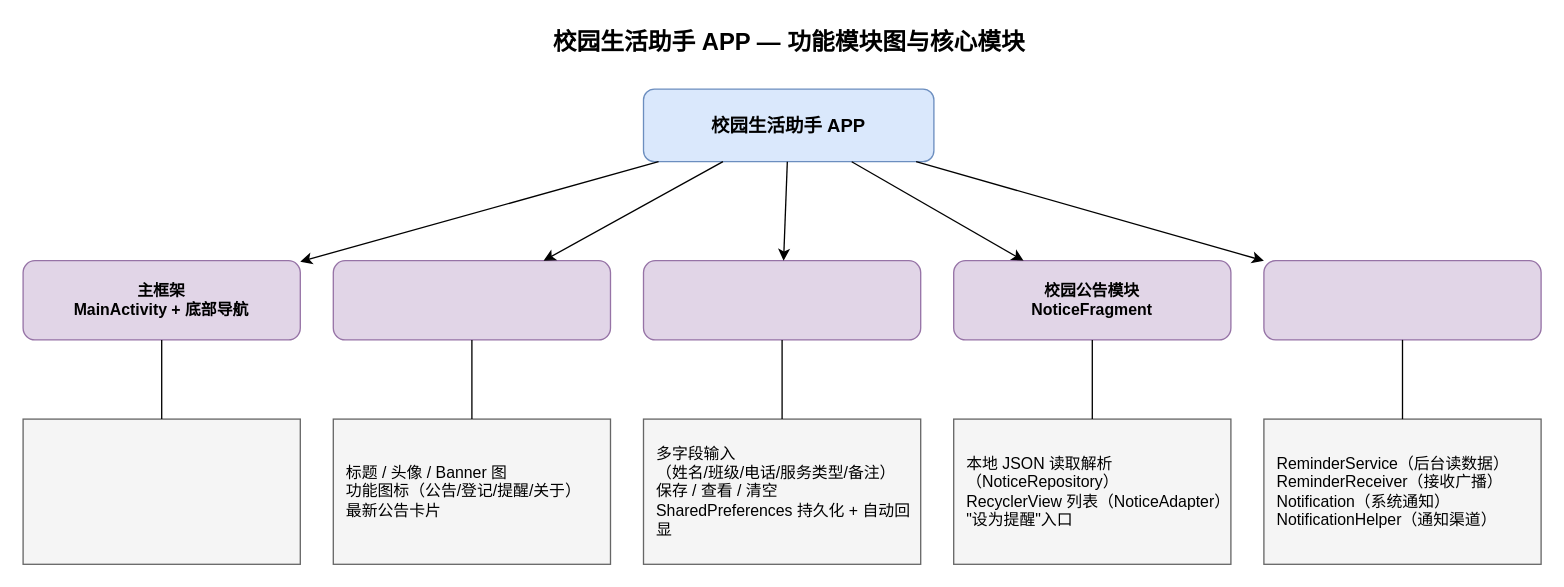
The diagram is 1564 pixels wide and 587 high, and some of its shapes have lost their labels. Here are the shapes that lost their labels. From the top down, the centre of each, then its label:
At (471,299): "首页模块 HomeFragment".
At (781,299): "信息登记模块 ProfileFragment".
At (1402,299): "提醒服务模块".
At (161,491): "首页 / 公告 / 我的 三标签页切换 FragmentTransaction".
